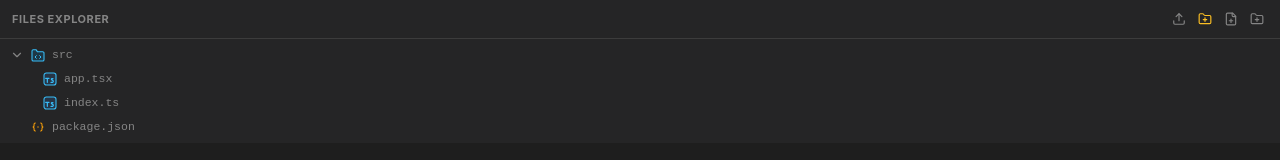
FileTree › Folder Expand/Collapse › should show children when folder is expanded
# Click to close
Click the text "src": (62, 55) [52,47,73,63]
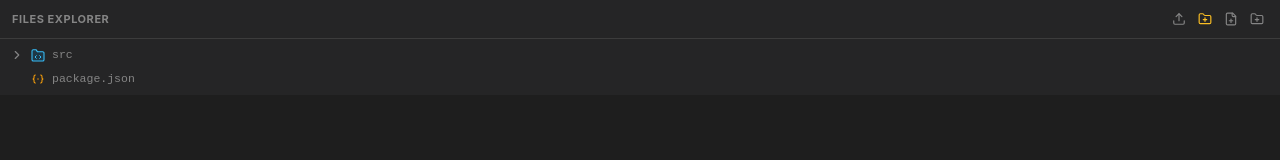
Expected: the text "index.ts" is gone
# Click to open again
Click the text "src": (62, 55) [52,47,73,63]
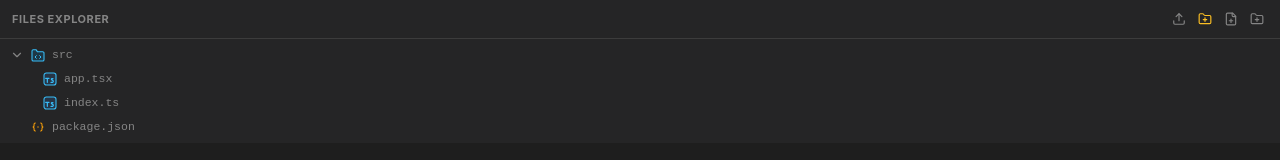
Expected: the text "index.ts" is shown, [64,95,119,111]
Expected: the text "app.tsx" is shown, [64,71,112,87]
